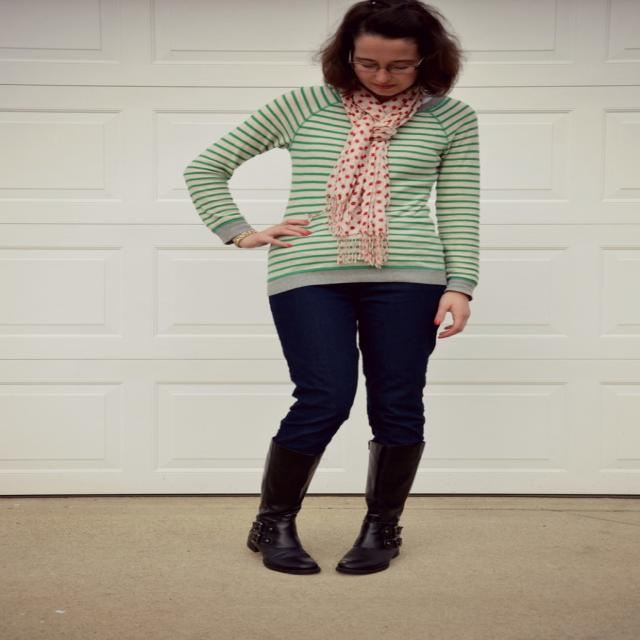no_helmet: (326, 2, 404, 42)
